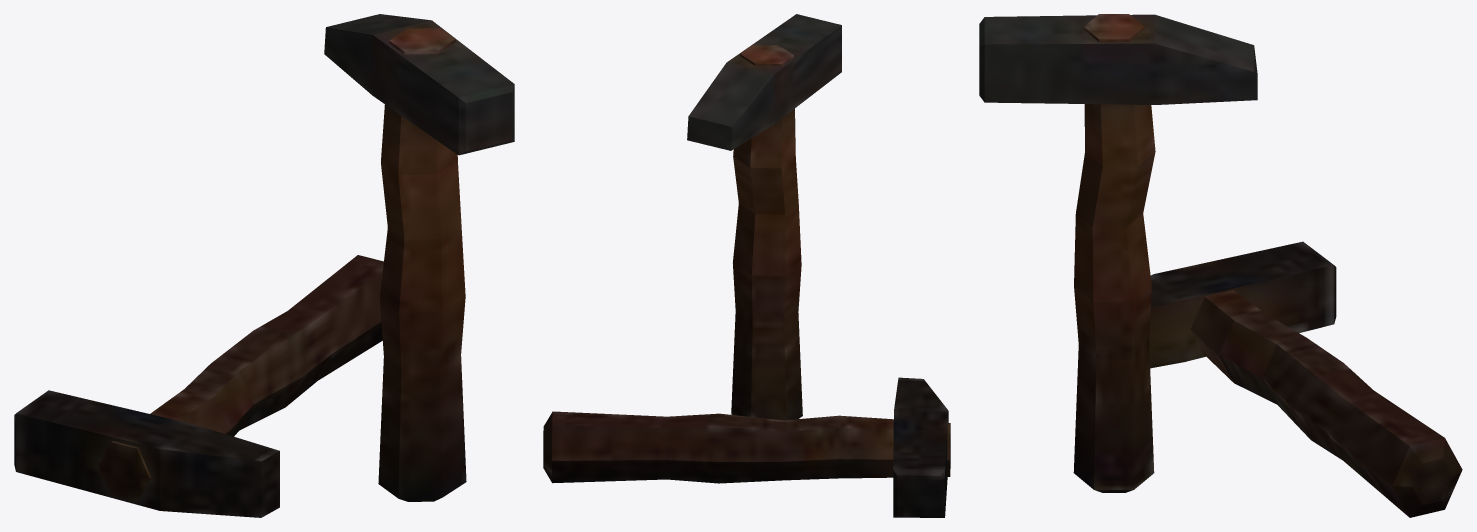
The model's file is hammer.fbx.
3 renders of one model, left to right at view 1: azimuth 30°, elevation 25°; view 2: azimuth 150°, elevation 25°; view 3: azimuth 270°, elevation 25°, orthographic. The views are drawn at different scales.
Visible parts, largest first — view 1: hammer, hammer.001; view 2: hammer, hammer.001; view 3: hammer, hammer.001.
Part boxes in pixels (x1,y1,x2,y2): hammer: (324, 14, 514, 501); hammer.001: (14, 255, 383, 517); hammer: (687, 14, 841, 420); hammer.001: (543, 377, 950, 517); hammer: (979, 14, 1257, 492); hammer.001: (1149, 241, 1462, 517).
Bounding box in the file's own units: 35.46 × 34.99 × 33.56.
